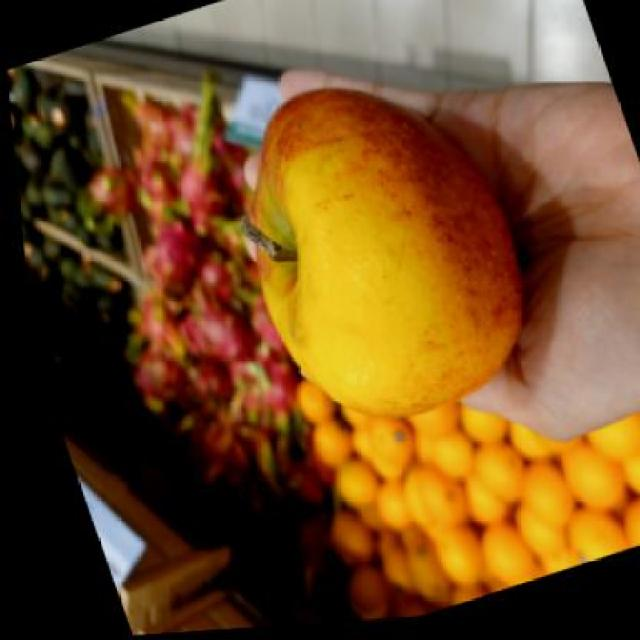Fresh Apple: (236, 89, 538, 417)
